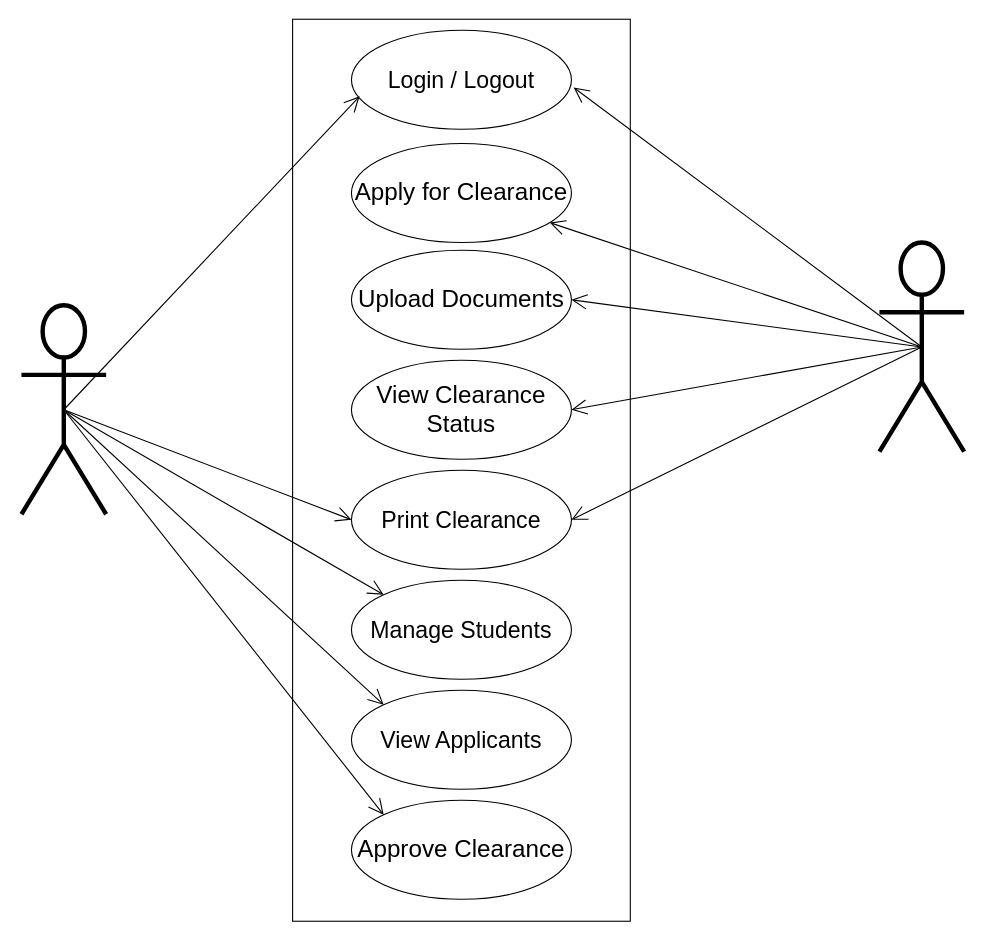
This 988x941 diagram has some shape labels left out. Here are the shapes that lost their labels. From the top down, the centre of each, then its label:
At (x=921, y=346): "Students".
At (x=63, y=409): "Admin".
